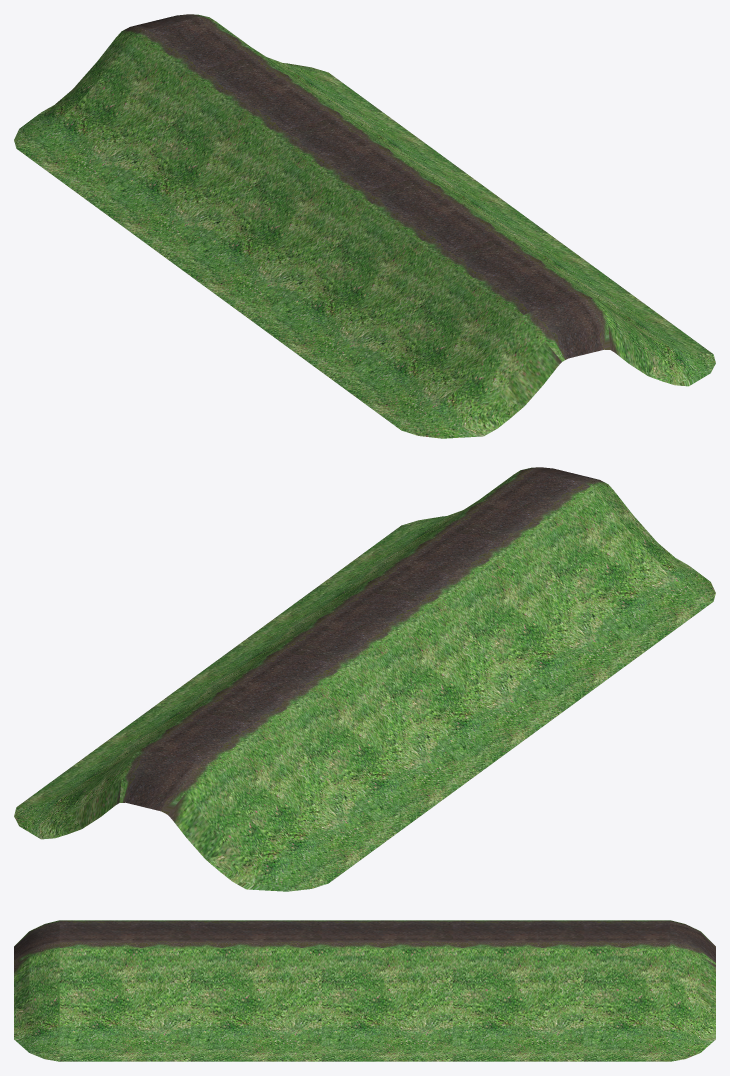
The model's file is 1nasip_80_TSM.gltf.
3 renders of one model, top to bottom at view 1: azimuth 30°, elevation 25°; view 2: azimuth 150°, elevation 25°; view 3: azimuth 270°, elevation 25°, orthographic. The views are drawn at different scales.
Bounding box in the file's own units: 37.47 × 10.02 × 92.
1 material, 1 textured.
